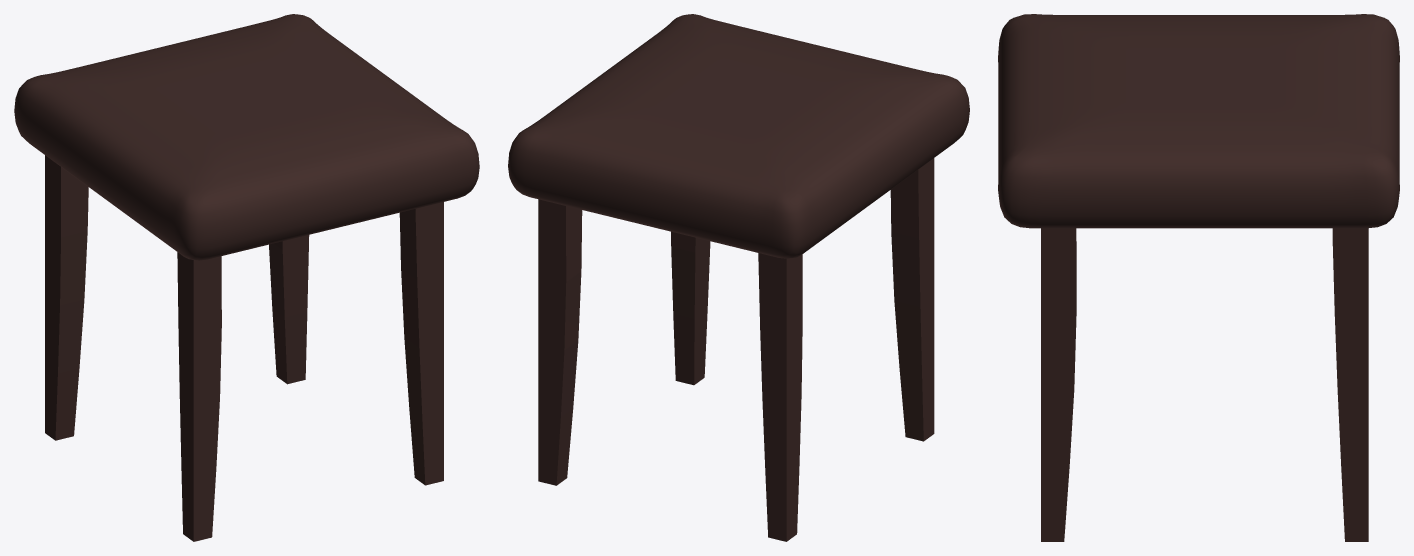
The model's file is Tabouret6_3.fbx.
3 views of the same model, side by side, from view 1: azimuth 30°, elevation 25°; view 2: azimuth 150°, elevation 25°; view 3: azimuth 270°, elevation 25° (orthographic). The views are drawn at different scales.
Visible parts, largest first — view 1: pCube2647, polySurface996, polySurface994, polySurface995, polySurface993; view 2: pCube2647, polySurface995, polySurface993, polySurface996, polySurface994; view 3: pCube2647, polySurface994, polySurface993.
Boxes of the visible parts, <box> form: pCube2647: <box>14,14,479,260</box>; polySurface996: <box>177,252,221,541</box>; polySurface994: <box>399,202,443,485</box>; polySurface995: <box>45,155,88,440</box>; polySurface993: <box>269,235,309,384</box>; pCube2647: <box>508,14,969,258</box>; polySurface995: <box>758,253,802,541</box>; polySurface993: <box>538,199,582,485</box>; polySurface996: <box>890,158,934,441</box>; polySurface994: <box>671,231,710,385</box>; pCube2647: <box>998,14,1399,228</box>; polySurface994: <box>1041,228,1076,541</box>; polySurface993: <box>1332,228,1368,541</box>.
Size of the model in its own units: 38.55 by 44.75 by 40.86.
